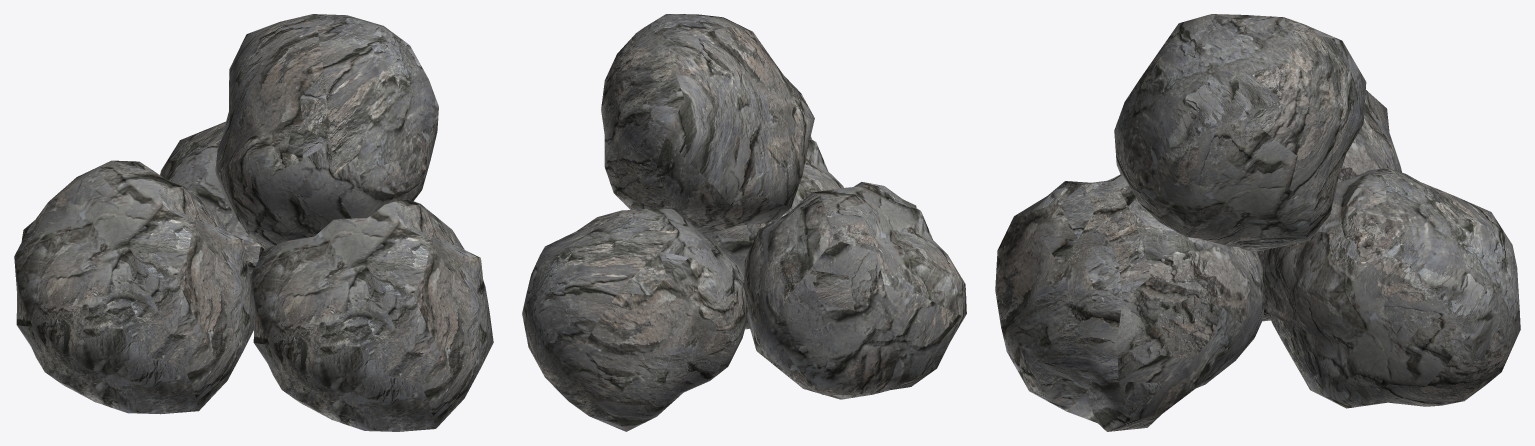
Rendered from kivi2.fbx.
The picture shows the model from 3 angles, left to right: view 1: azimuth 30°, elevation 25°; view 2: azimuth 150°, elevation 25°; view 3: azimuth 270°, elevation 25°; orthographic projection. The views are drawn at different scales.
Visible parts, largest first — view 1: Icosphere_002, Icosphere_001, Icosphere_003, Icosphere; view 2: Icosphere, Icosphere_002, Icosphere_003, Icosphere_001; view 3: Icosphere_001, Icosphere, Icosphere_003, Icosphere_002.
Boxes of the visible parts, x1,y1,x2,y2 form: Icosphere_002: (14,160,253,414); Icosphere_001: (251,199,493,431); Icosphere_003: (215,14,438,248); Icosphere: (160,121,261,295); Icosphere: (522,209,747,431); Icosphere_002: (744,182,966,399); Icosphere_003: (601,14,814,233); Icosphere_001: (701,136,843,329); Icosphere_001: (995,174,1264,431); Icosphere: (1261,167,1520,408); Icosphere_003: (1114,14,1366,251); Icosphere_002: (1257,90,1401,321).
Size of the model in its own units: 5.9 by 5.17 by 6.32.
